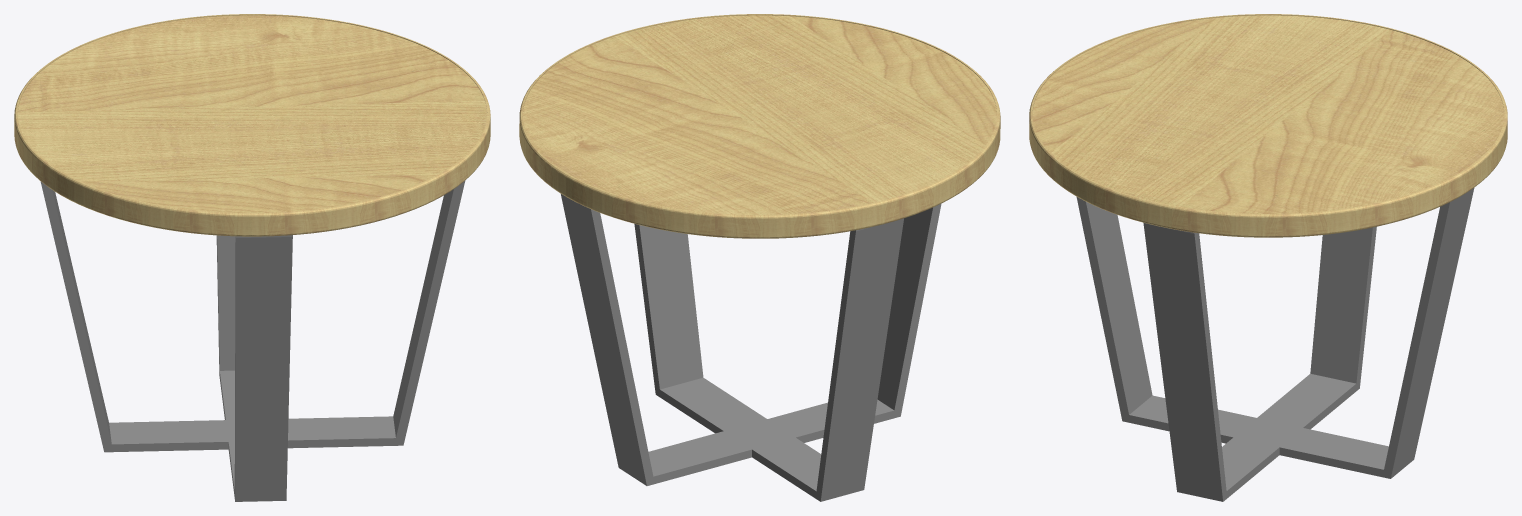
File: Iris coffee table 2.FBX
The picture shows the model from 3 angles, left to right: view 1: azimuth 30°, elevation 25°; view 2: azimuth 150°, elevation 25°; view 3: azimuth 270°, elevation 25°; orthographic projection.
Parts seen in each view (by area): view 1: Top.001, Frame.001; view 2: Top.001, Frame.001; view 3: Top.001, Frame.001.
Part boxes in pixels (x1,y1,x2,y2): Top.001: (14, 14, 490, 236); Frame.001: (40, 181, 465, 501); Top.001: (519, 14, 1000, 238); Frame.001: (561, 194, 941, 501); Top.001: (1029, 14, 1507, 237); Frame.001: (1076, 188, 1474, 501).
Bounding box in the file's own units: 597 × 449 × 597.
Materials: 2 (1 with a texture image).
